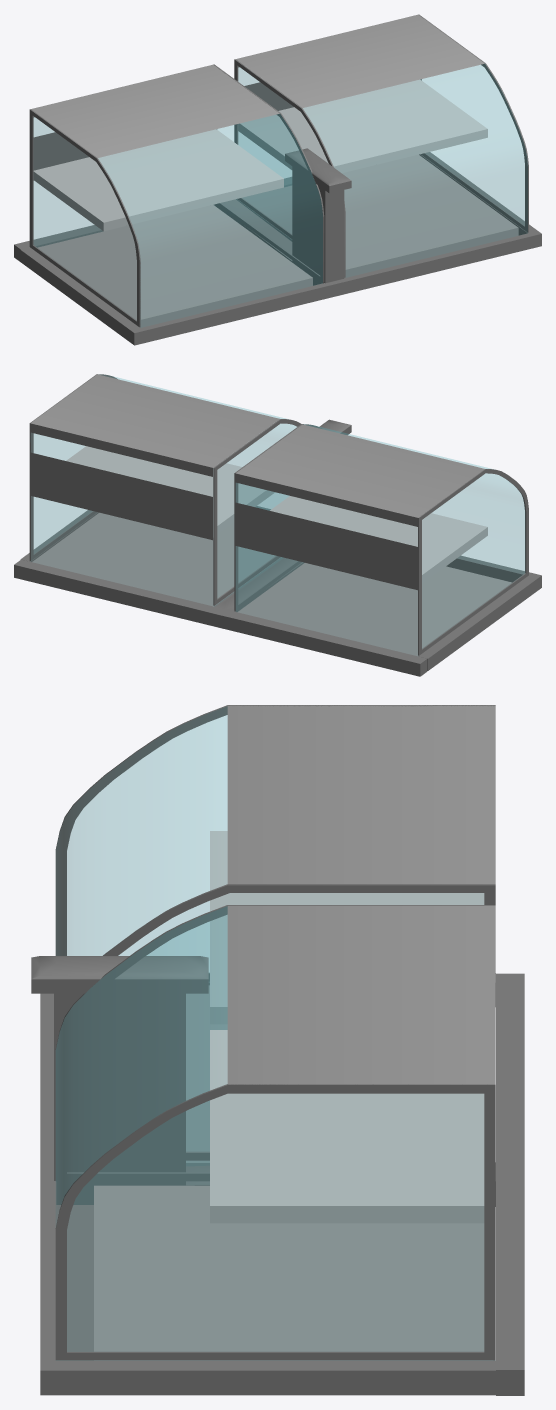
Rendered from Prateleira.fbx.
3 views of the same model, one above another, from view 1: azimuth 30°, elevation 25°; view 2: azimuth 150°, elevation 25°; view 3: azimuth 270°, elevation 25° (orthographic). The views are drawn at different scales.
Visible parts, largest first — view 1: PrateleiraDeSalgadinhos; view 2: PrateleiraDeSalgadinhos; view 3: PrateleiraDeSalgadinhos.
Part boxes in pixels (x1=…): PrateleiraDeSalgadinhos: x1=14, y1=14, x2=541, y2=345; PrateleiraDeSalgadinhos: x1=14, y1=374, x2=541, y2=676; PrateleiraDeSalgadinhos: x1=31, y1=705, x2=524, y2=1395.
Size of the model in its own units: 157 by 55.8 by 82.45.
Materials: 2 (1 with a texture image).
